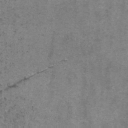finishing roll printing: (2, 57, 68, 89)
